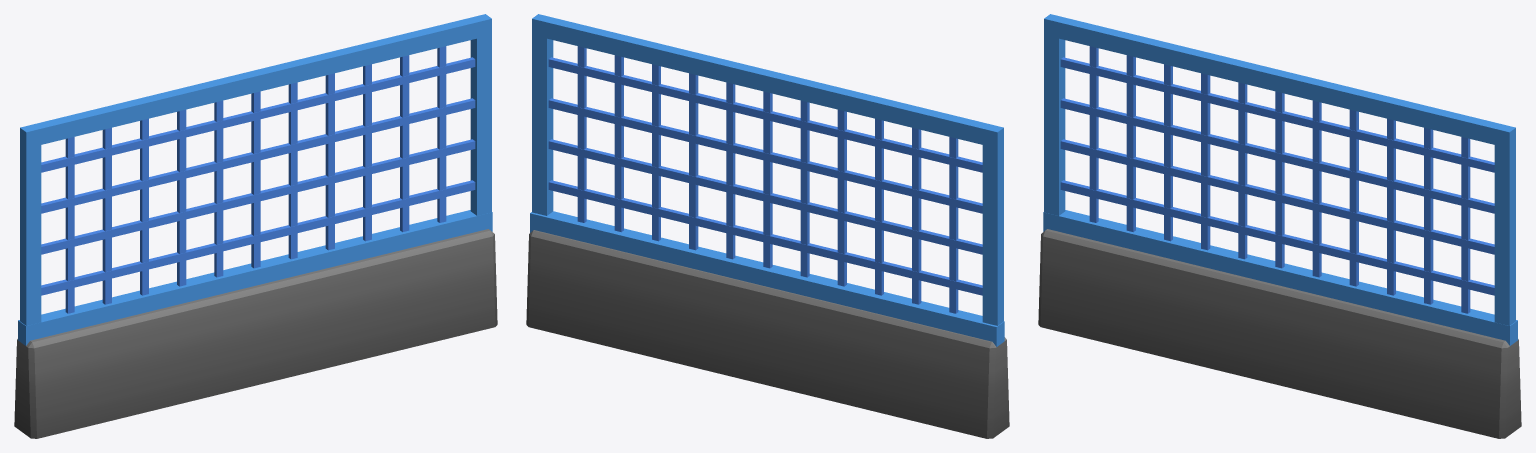
The model's file is Fence_1_G_4.fbx.
The picture shows the model from 3 angles, left to right: view 1: azimuth 30°, elevation 25°; view 2: azimuth 150°, elevation 25°; view 3: azimuth 330°, elevation 25°; orthographic projection.
Visible parts, largest first — view 1: Fence_1_G_4; view 2: Fence_1_G_4; view 3: Fence_1_G_4.
Boxes of the visible parts, x1,y1,x2,y2 form: Fence_1_G_4: (14, 14, 497, 438); Fence_1_G_4: (526, 14, 1009, 438); Fence_1_G_4: (1038, 14, 1521, 438).
Size of the model in its own units: 400 by 248 by 30.52.
